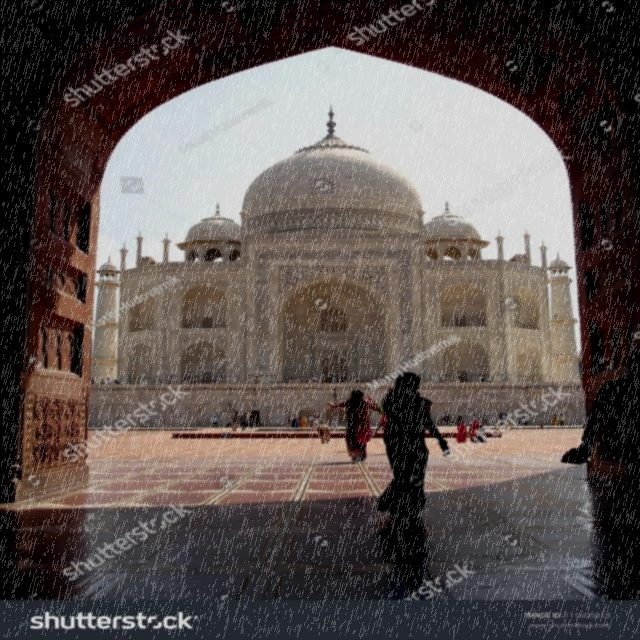pessoa: (372, 371, 452, 522), (560, 366, 640, 515), (326, 388, 378, 461), (264, 374, 372, 383), (98, 376, 160, 384), (376, 409, 388, 446), (455, 419, 467, 445), (316, 423, 330, 444), (468, 419, 480, 441), (183, 377, 220, 384), (474, 424, 486, 443), (230, 411, 240, 432), (496, 412, 506, 426), (248, 411, 256, 428), (240, 412, 247, 431), (518, 412, 528, 425), (296, 415, 306, 428), (558, 413, 566, 426), (212, 415, 220, 428), (442, 414, 450, 426), (551, 413, 559, 425), (284, 416, 292, 428), (481, 413, 488, 426), (308, 414, 314, 428), (456, 414, 464, 424), (291, 418, 299, 428), (332, 418, 339, 429), (478, 374, 484, 386), (314, 414, 319, 426), (253, 376, 260, 384), (430, 378, 444, 382), (255, 419, 262, 426), (168, 376, 174, 384), (290, 429, 314, 431), (486, 376, 492, 383), (226, 421, 232, 428), (306, 418, 310, 428), (290, 414, 296, 420), (454, 378, 461, 383), (324, 418, 330, 423), (472, 414, 477, 419), (245, 421, 250, 426), (320, 419, 324, 425), (310, 418, 314, 422)
